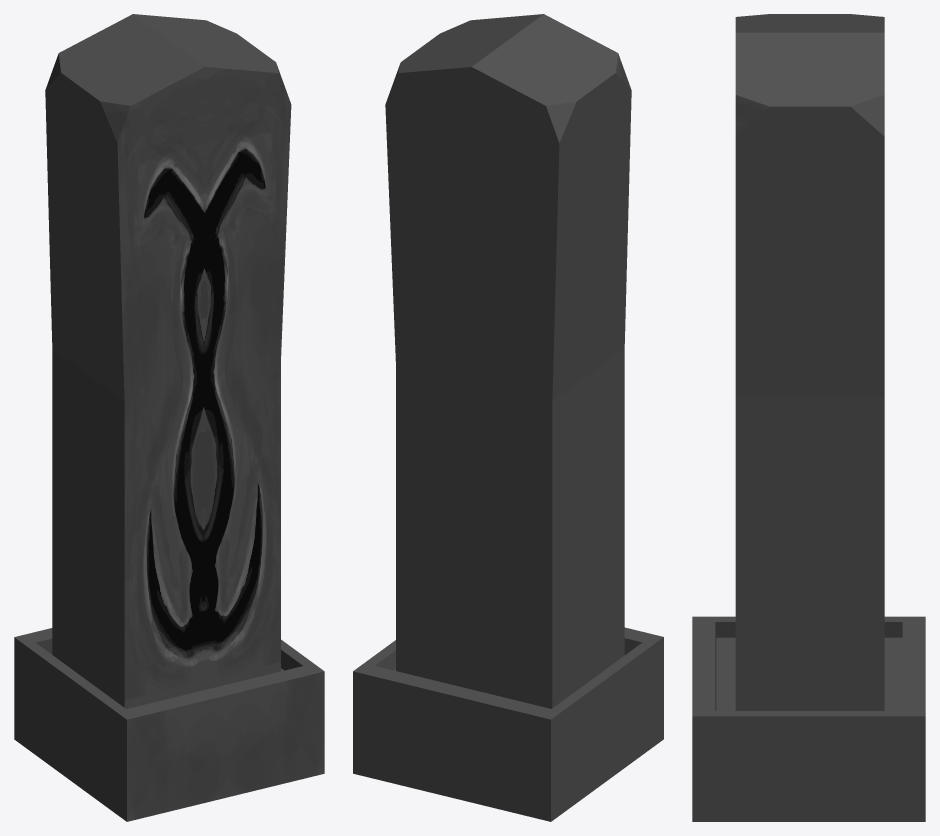
The model's file is Variant Anti Sticker Totem.glb.
3 views of the same model, side by side, from view 1: azimuth 30°, elevation 25°; view 2: azimuth 150°, elevation 25°; view 3: azimuth 270°, elevation 25° (orthographic). The views are drawn at different scales.
Visible parts, largest first — view 1: Cube.020; view 2: Cube.020; view 3: Cube.020.
Boxes of the visible parts, x1,y1,x2,y2 form: Cube.020: (14, 14, 324, 821); Cube.020: (353, 14, 663, 821); Cube.020: (692, 14, 925, 821).
Bounding box in the file's own units: 0.405 × 1.4 × 0.4.
1 material, 1 textured.
